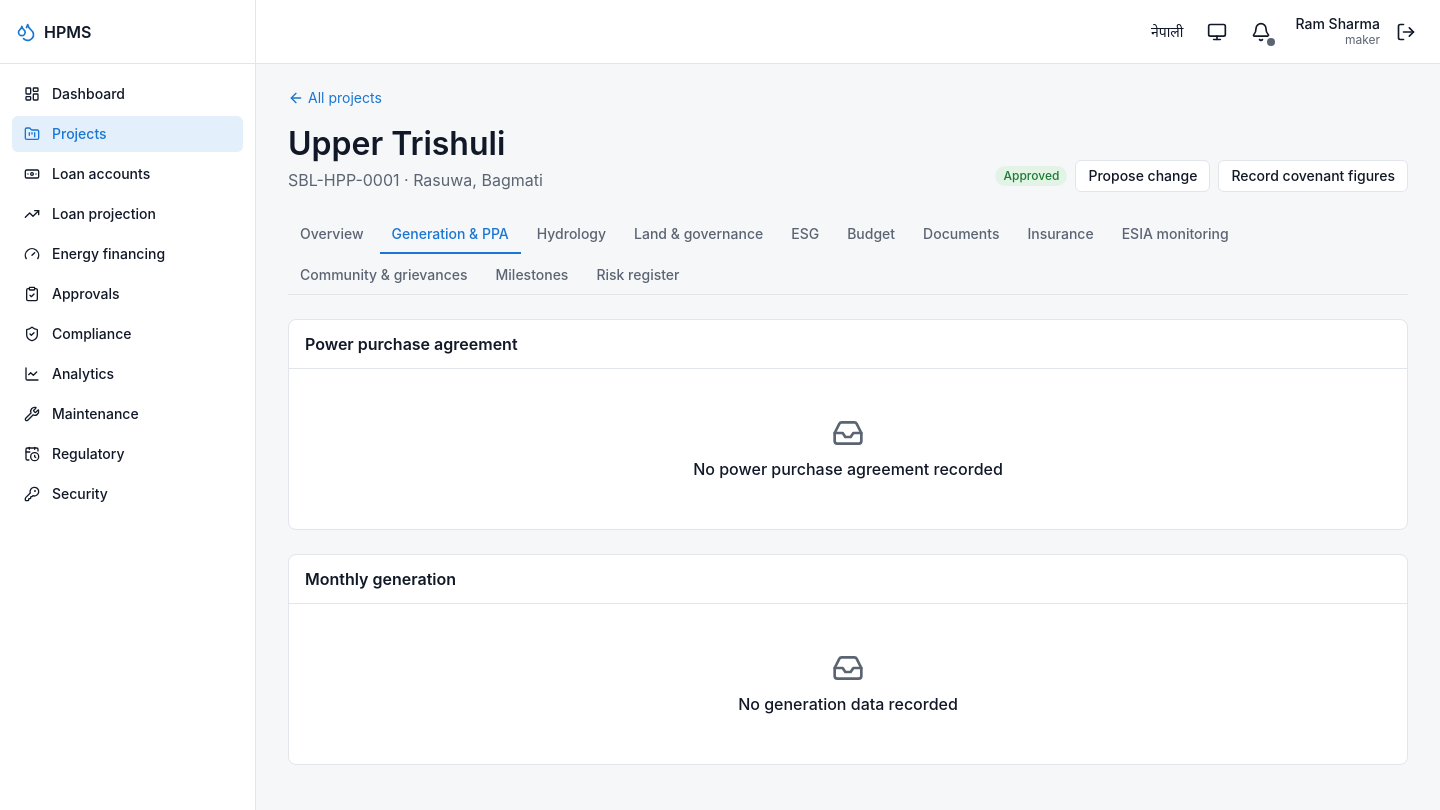
Scenario: project tabs › shows empty states, not zeros, when nothing is recorded
Check: the text "No power purchase agreement recorded" is shown, box [693,457,1003,481]
Check: the text "No generation data recorded" is shown, box [738,692,958,716]
Click the tab "ESG".
click(805, 235)  # box [779,216,831,254]
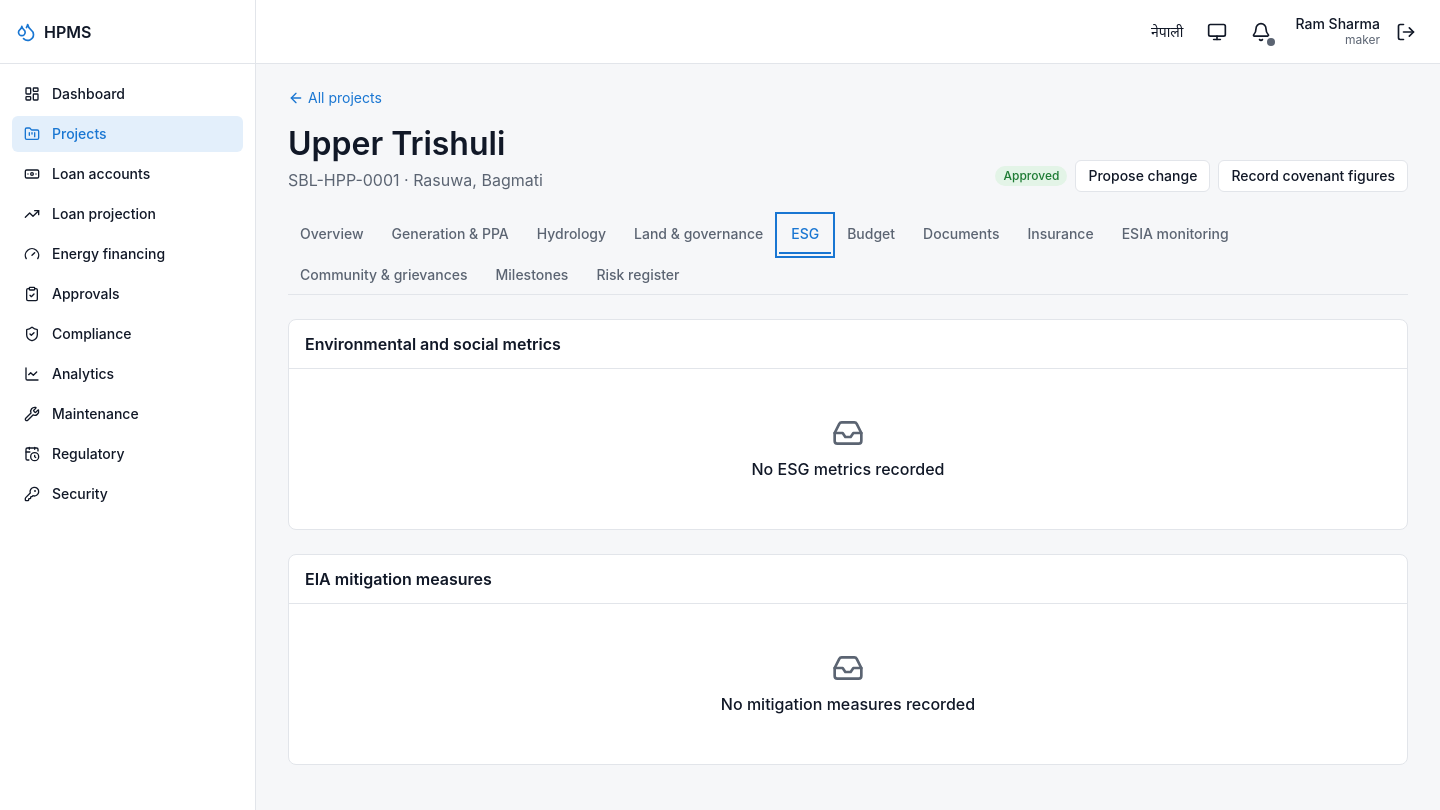
Check: the text "No ESG metrics recorded" is shown, box [752,457,944,481]
Check: the text "No mitigation measures recorded" is shown, box [721,692,975,716]
